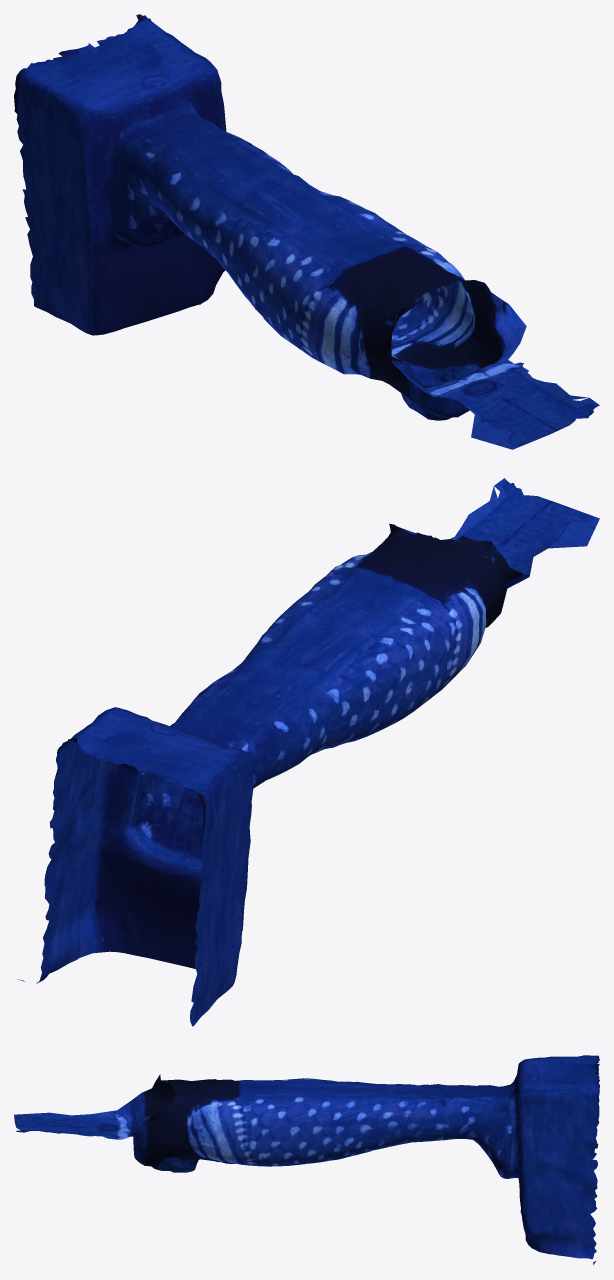
The model's file is VILmodel.obj.
3 views of the same model, one above another, from view 1: azimuth 30°, elevation 25°; view 2: azimuth 150°, elevation 25°; view 3: azimuth 270°, elevation 25° (orthographic). The views are drawn at different scales.
Bounding box in the file's own units: 0.296 × 0.3879 × 1.2.
1 material, 1 textured.
